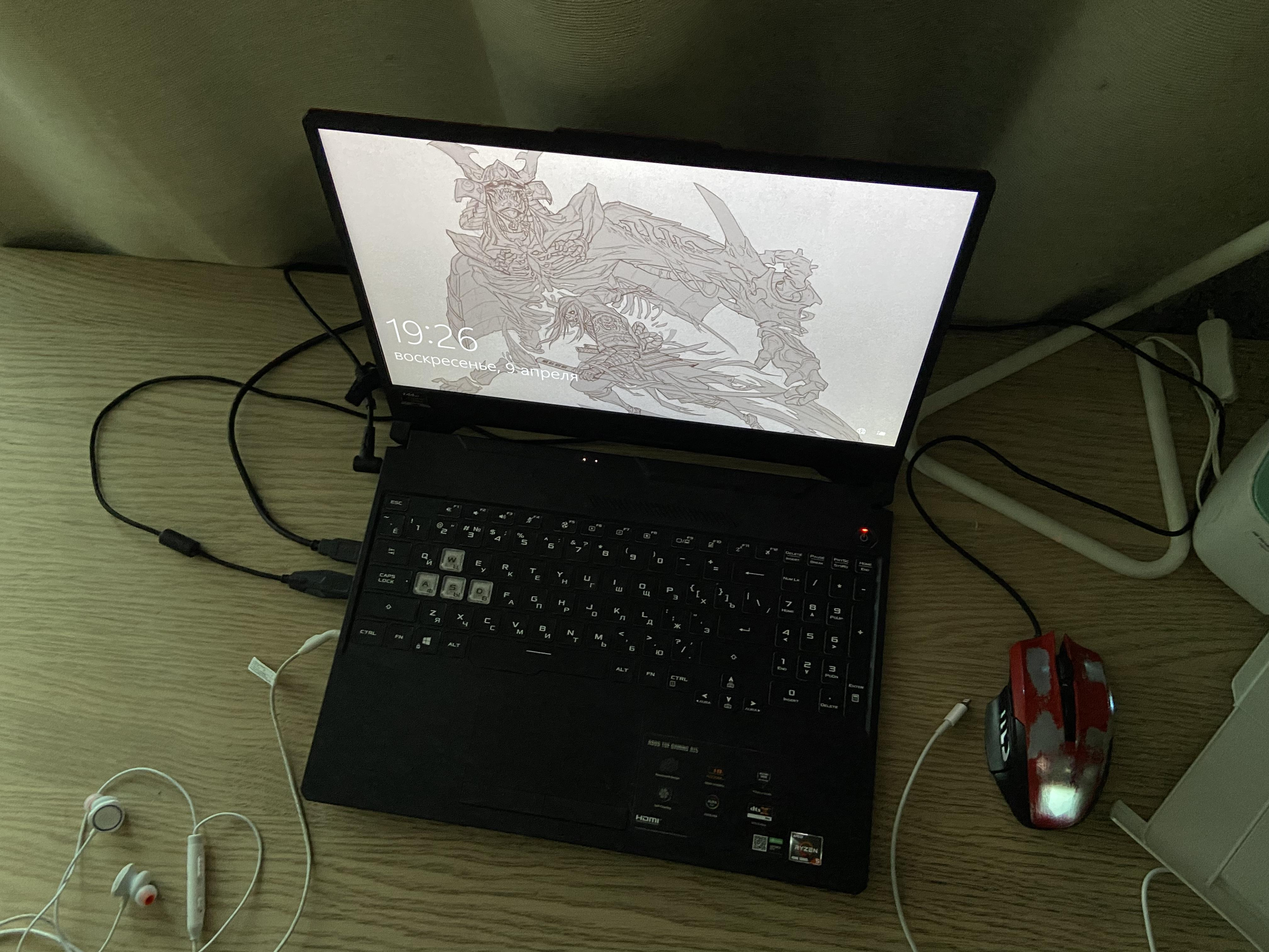monitor: (304, 99, 999, 494)
